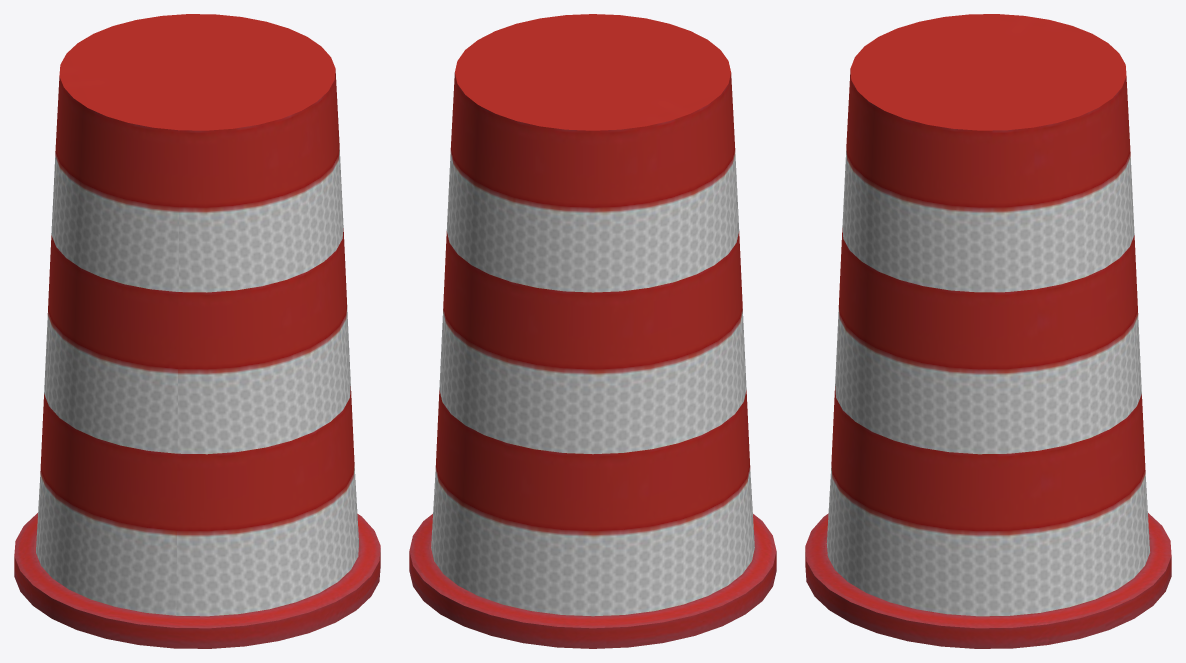
File: Traffic_Bucket.fbx
3 renders of one model, left to right at view 1: azimuth 30°, elevation 25°; view 2: azimuth 150°, elevation 25°; view 3: azimuth 270°, elevation 25°, orthographic.
Parts seen in each view (by area): view 1: Traffic_Bucket; view 2: Traffic_Bucket; view 3: Traffic_Bucket.
Boxes of the visible parts, bbox=[...] form: Traffic_Bucket: bbox=[14, 14, 380, 648]; Traffic_Bucket: bbox=[409, 14, 776, 648]; Traffic_Bucket: bbox=[805, 14, 1171, 648].
Size of the model in its own units: 0.5981 by 0.9001 by 0.5982.
Materials: 1 (1 with a texture image).
